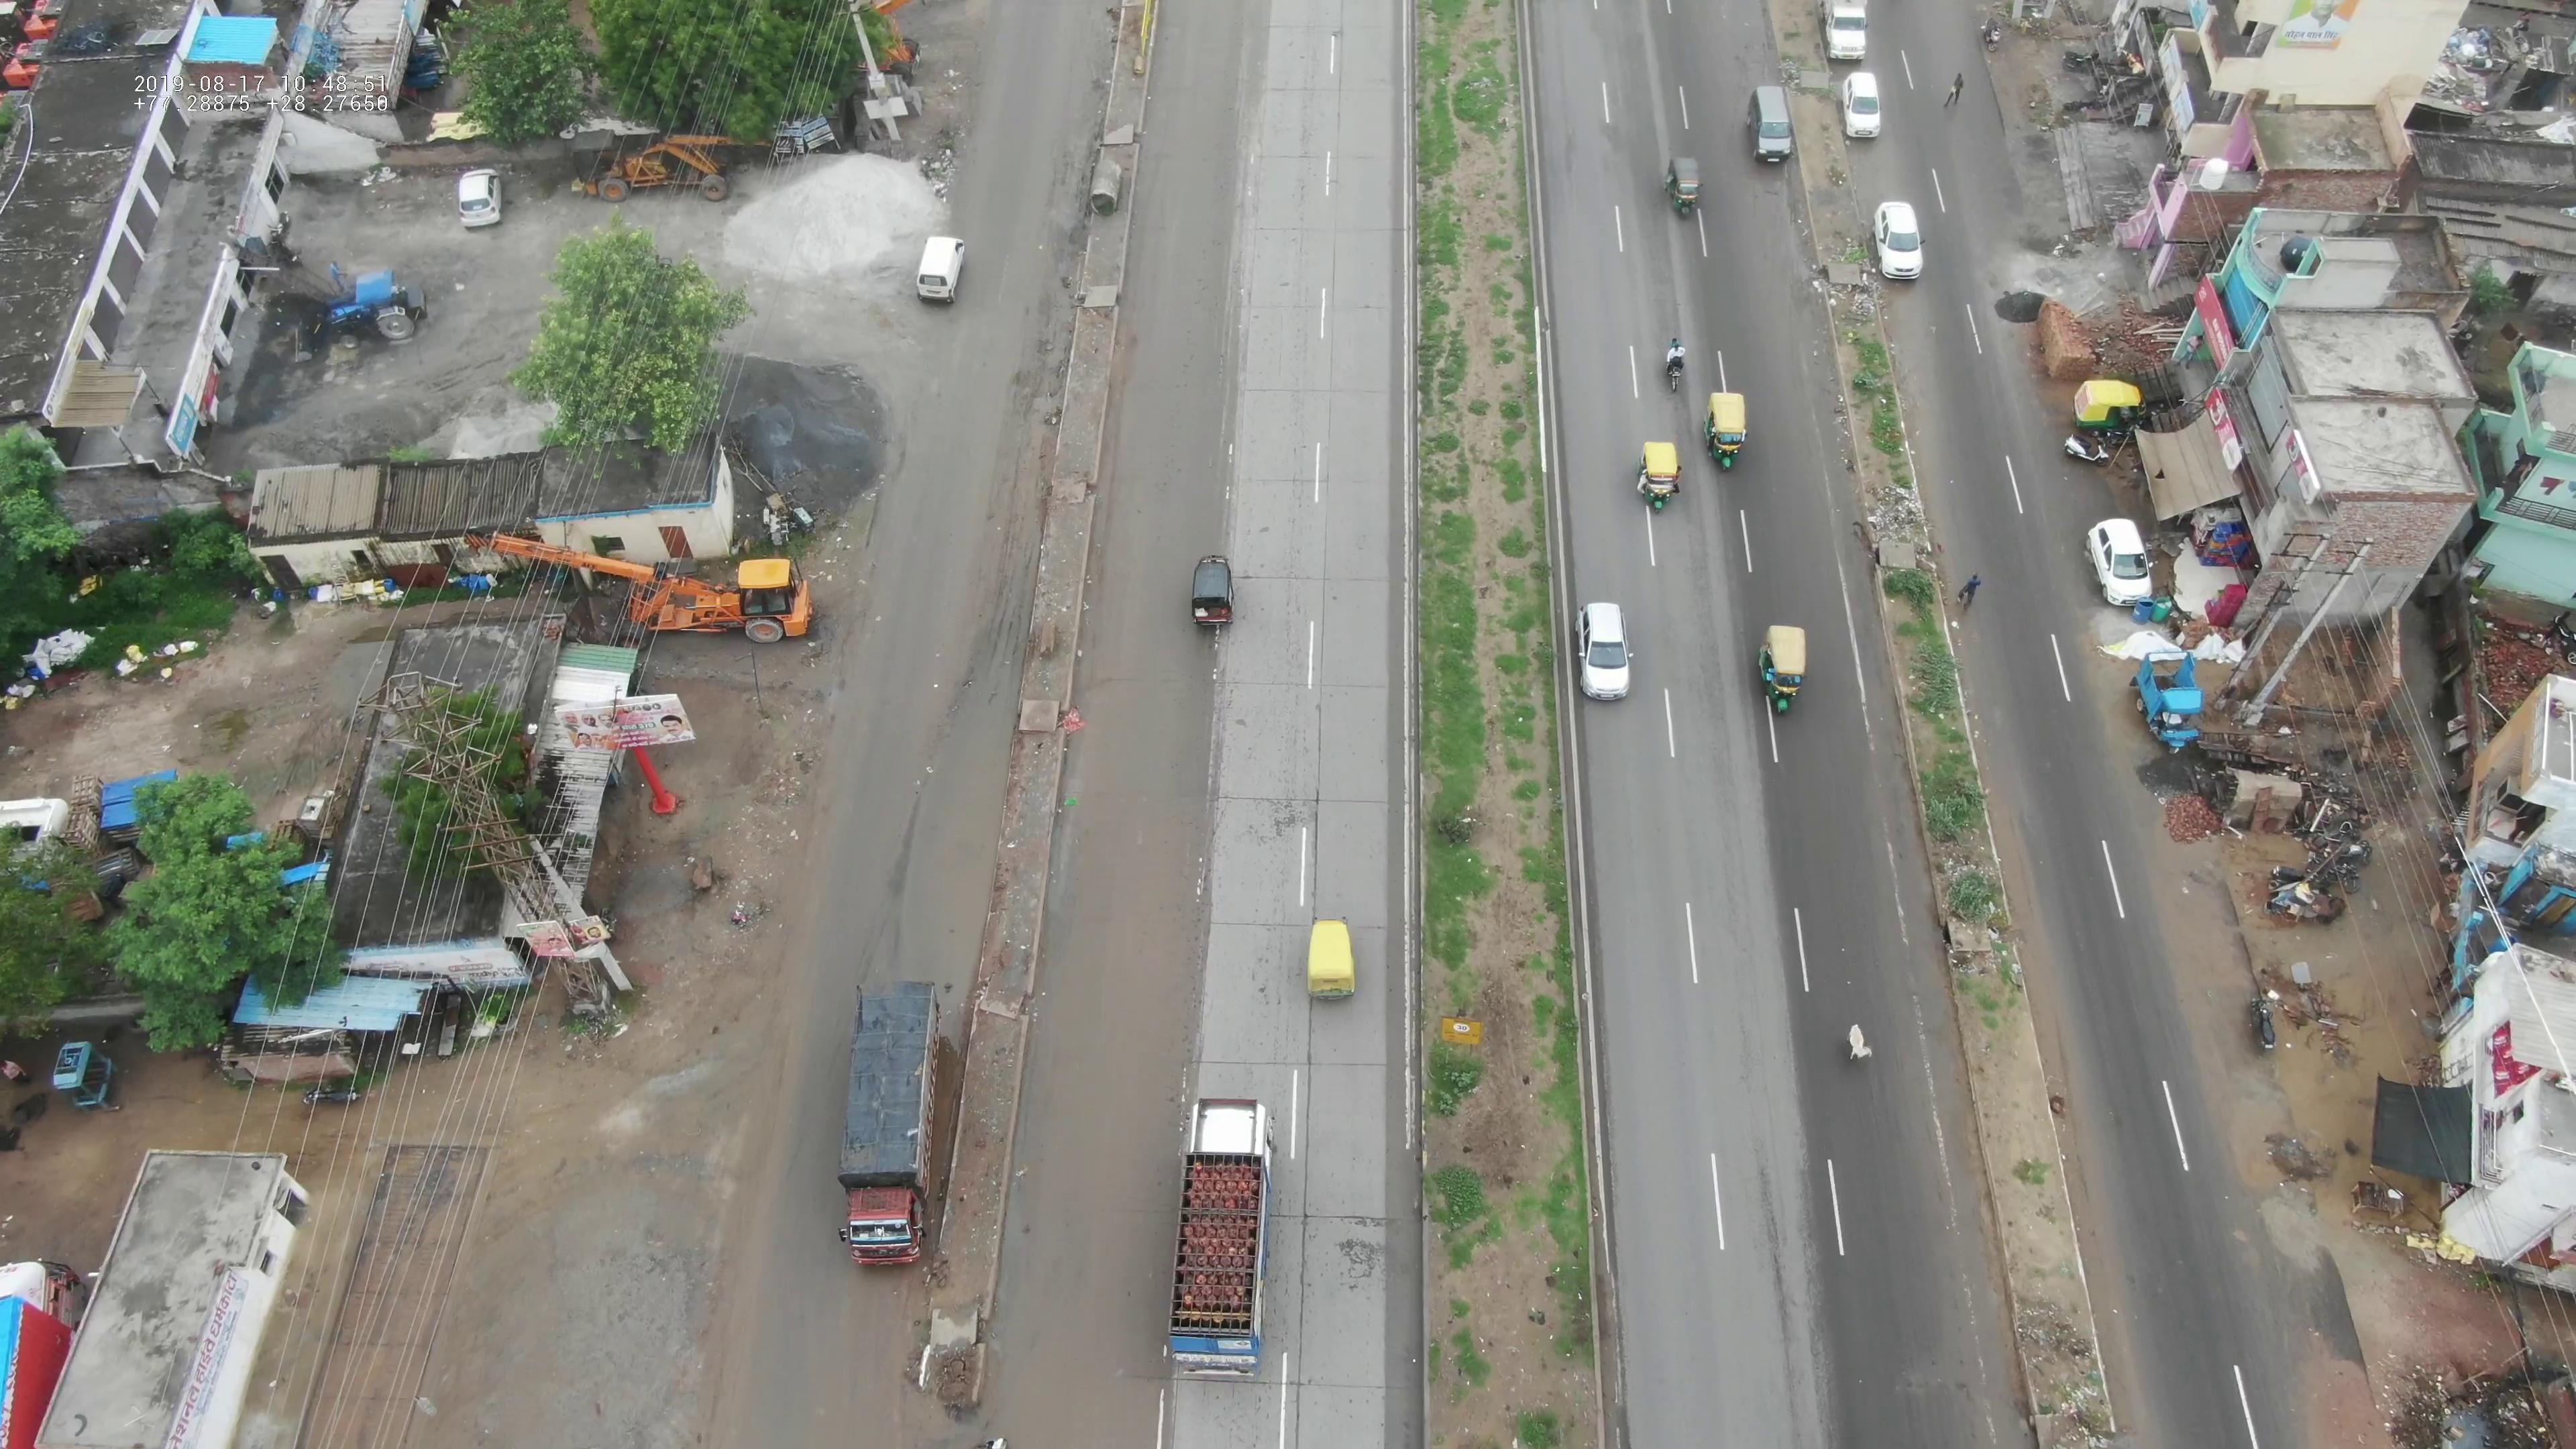Muddy_road: (2146, 879, 2252, 994)
Waterlogging: (881, 662, 1016, 962)
